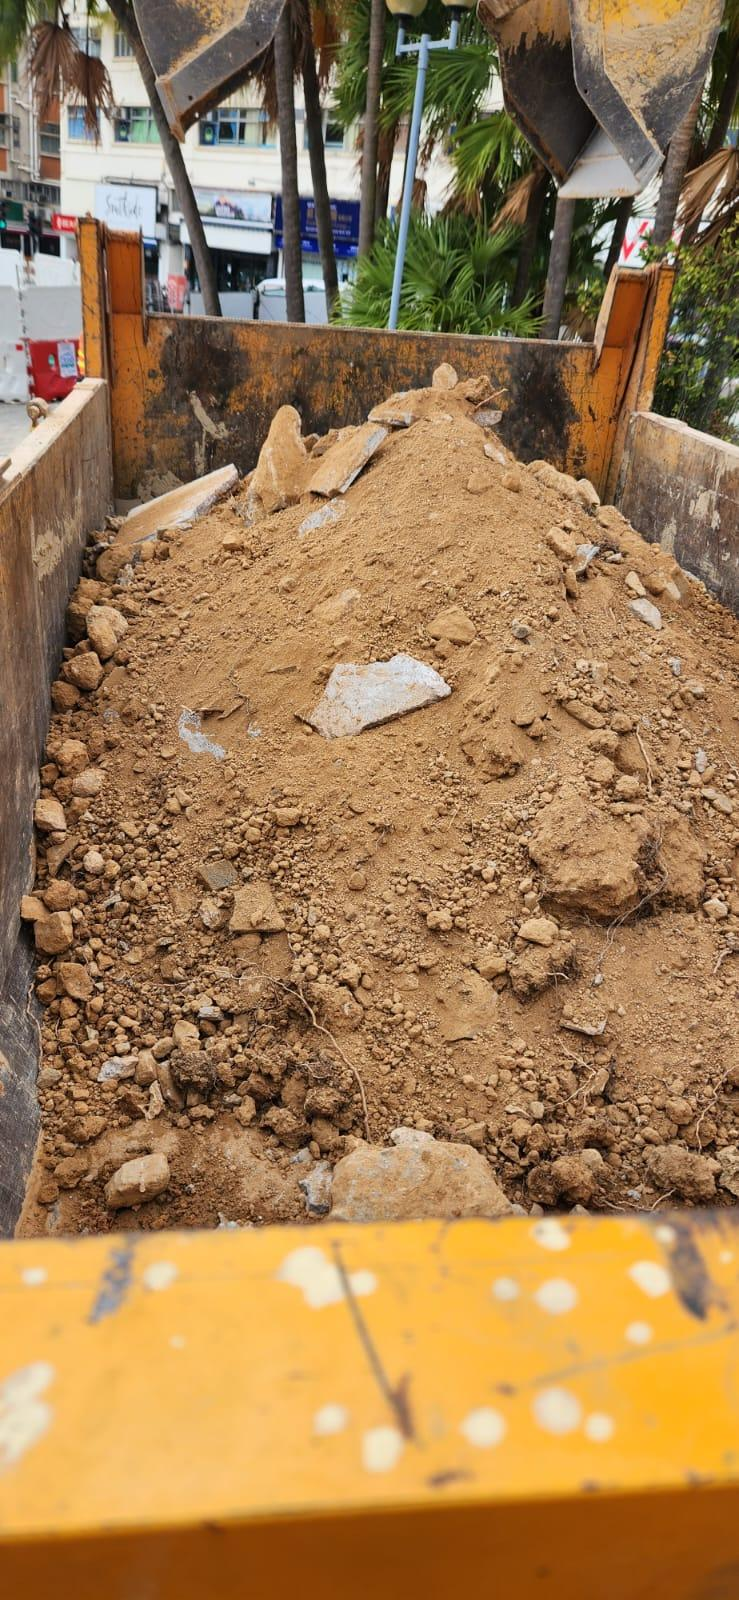dry: (17, 390, 738, 1235)
